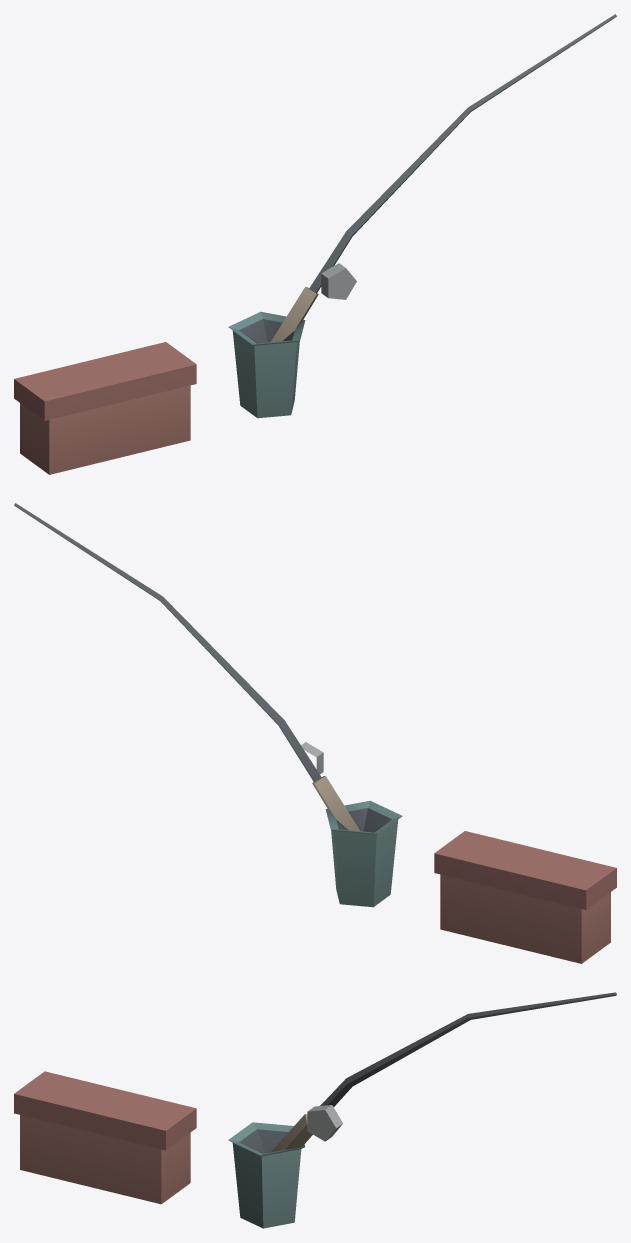
File: rod.lod1.glb
The picture shows the model from 3 angles, top to bottom: view 1: azimuth 30°, elevation 25°; view 2: azimuth 150°, elevation 25°; view 3: azimuth 330°, elevation 25°; orthographic projection.
Bounding box in the file's own units: 2.2 × 1.11 × 0.2568.
